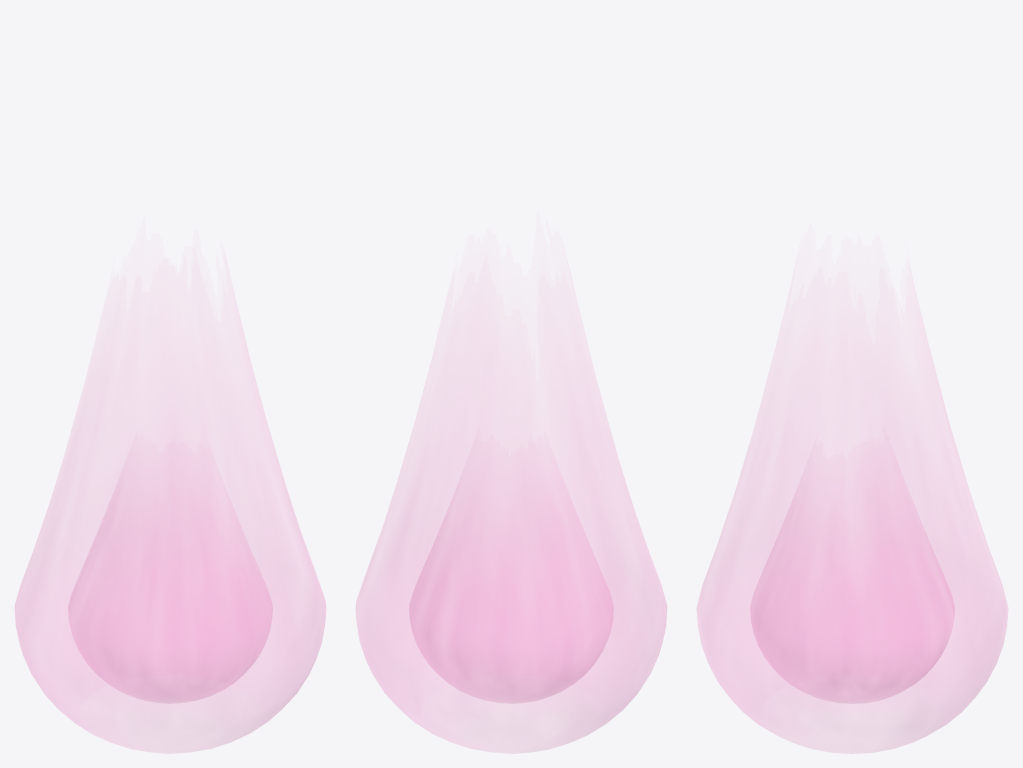
File: head_rose.glb
The picture shows the model from 3 angles, left to right: view 1: azimuth 30°, elevation 25°; view 2: azimuth 150°, elevation 25°; view 3: azimuth 270°, elevation 25°; orthographic projection.
Visible parts, largest first — view 1: head; view 2: head; view 3: head.
Boxes of the visible parts, left/top/right/bottom form: head: left=15, top=401, right=325, bottom=753; head: left=356, top=404, right=666, bottom=753; head: left=697, top=400, right=1007, bottom=753.
Size of the model in its own units: 3.5 by 8.96 by 3.5.
2 materials, 2 textured.
